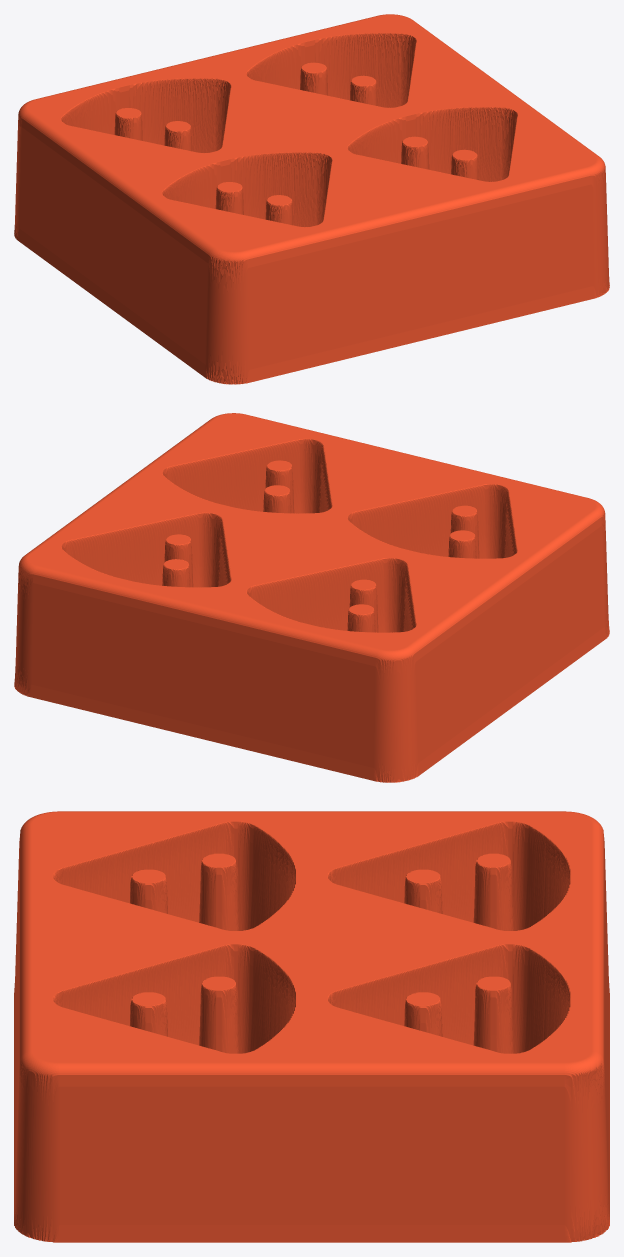
Rendered from mold.glb.
The picture shows the model from 3 angles, top to bottom: view 1: azimuth 30°, elevation 25°; view 2: azimuth 150°, elevation 25°; view 3: azimuth 270°, elevation 25°; orthographic projection. The views are drawn at different scales.
Parts seen in each view (by area): view 1: geometry_0; view 2: geometry_0; view 3: geometry_0.
Boxes of the visible parts, box(x1,y1,x2,y2) form: geometry_0: box(14, 14, 609, 384); geometry_0: box(14, 413, 609, 782); geometry_0: box(14, 811, 609, 1242).
Bounding box in the file's own units: 0.1248 × 0.0378 × 0.1184.
